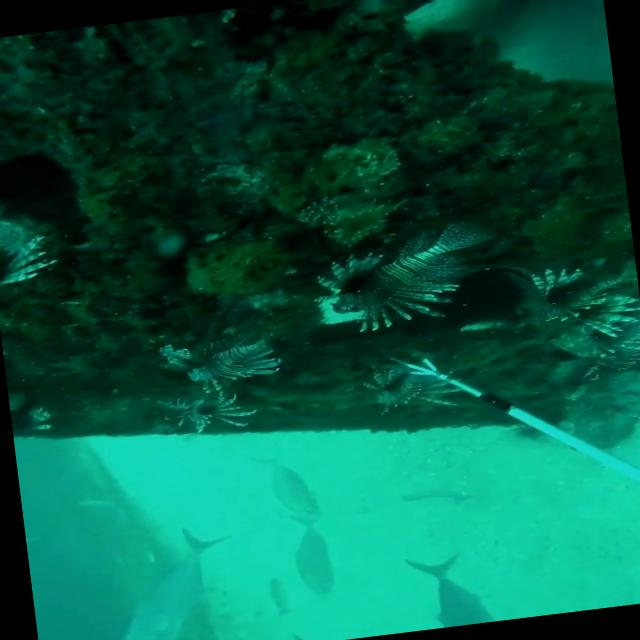Aslan Baligi: (304, 204, 494, 338), (511, 252, 640, 345), (331, 348, 474, 427), (152, 322, 282, 400), (152, 385, 264, 441)
